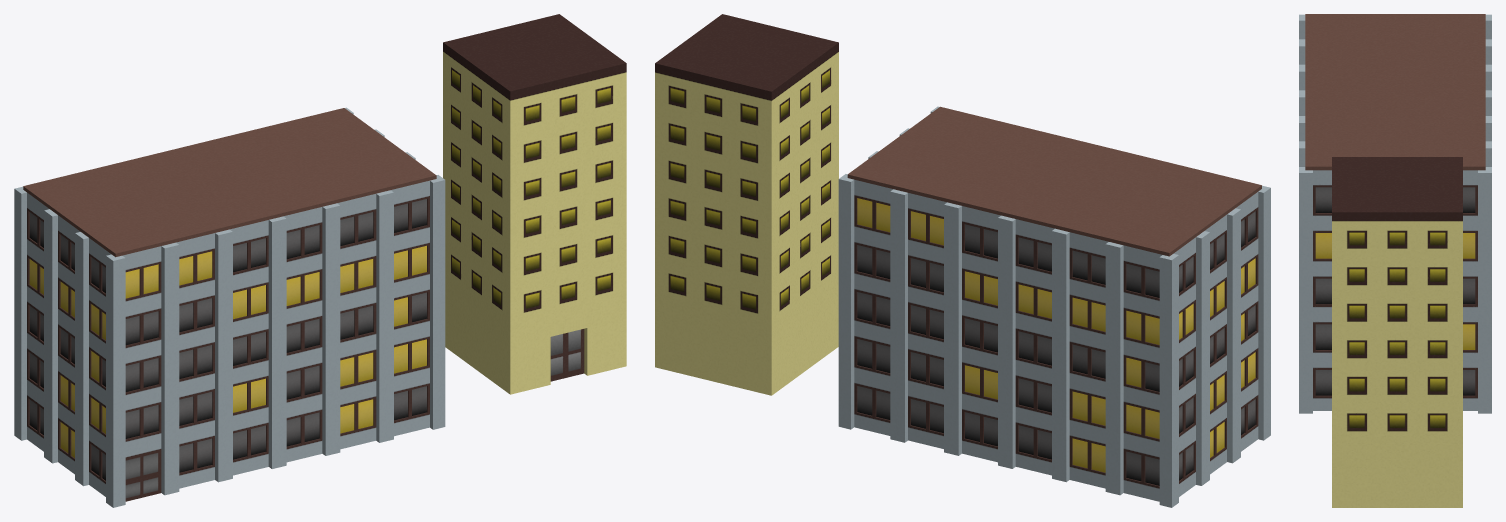
The model's file is City_03.fbx.
3 renders of one model, left to right at view 1: azimuth 30°, elevation 25°; view 2: azimuth 150°, elevation 25°; view 3: azimuth 270°, elevation 25°, orthographic. The views are drawn at different scales.
Parts seen in each view (by area): view 1: Building_06, Building_07; view 2: Building_06, Building_07; view 3: Building_07, Building_06.
Part boxes in pixels (box(x1,y1,x2,y2)): Building_06: box(14, 107, 445, 507); Building_07: box(443, 14, 626, 394); Building_06: box(838, 106, 1270, 507); Building_07: box(655, 14, 838, 395); Building_07: box(1332, 157, 1462, 507); Building_06: box(1299, 14, 1491, 413).
Bounding box in the file's own units: 474 × 259 × 153.
